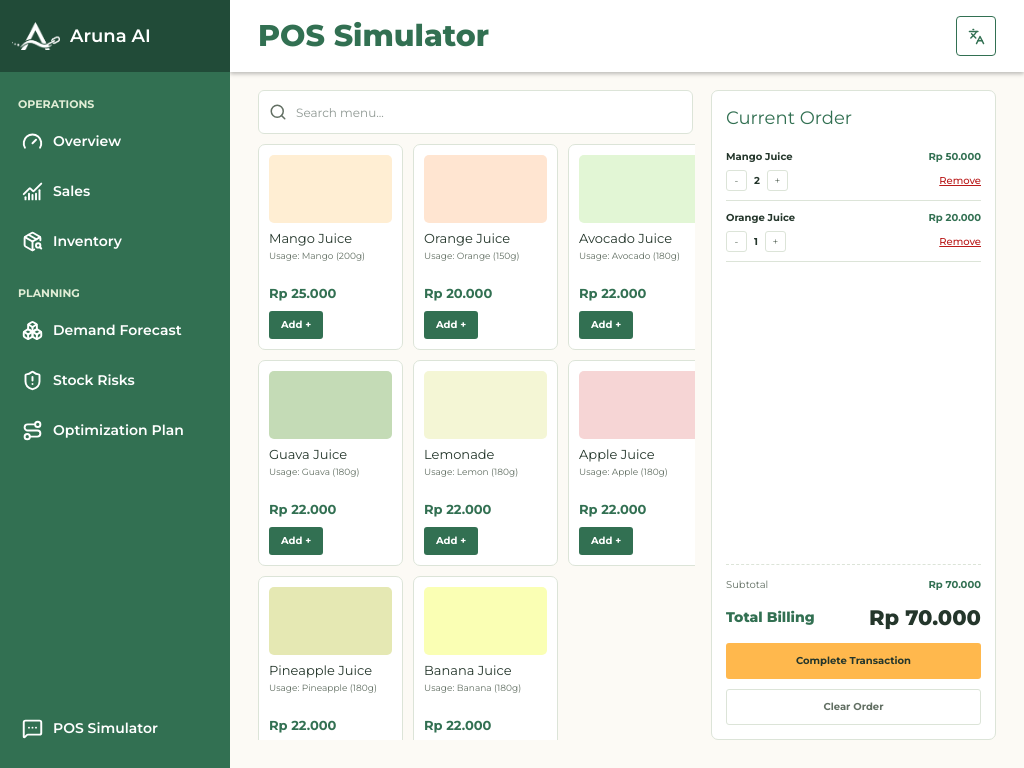
Test: PosSimulatorPage › manages an order and shows insufficient stock
Expected: the heading "Current Order" is shown, x1=726 y1=107 x2=852 y2=129
Expected: the text "Rp 70.000" in the row of "Subtotal" is shown, x1=928 y1=578 x2=981 y2=590
Click the button "Complete Transaction" at [854, 661], box x1=726 y1=643 x2=981 y2=679
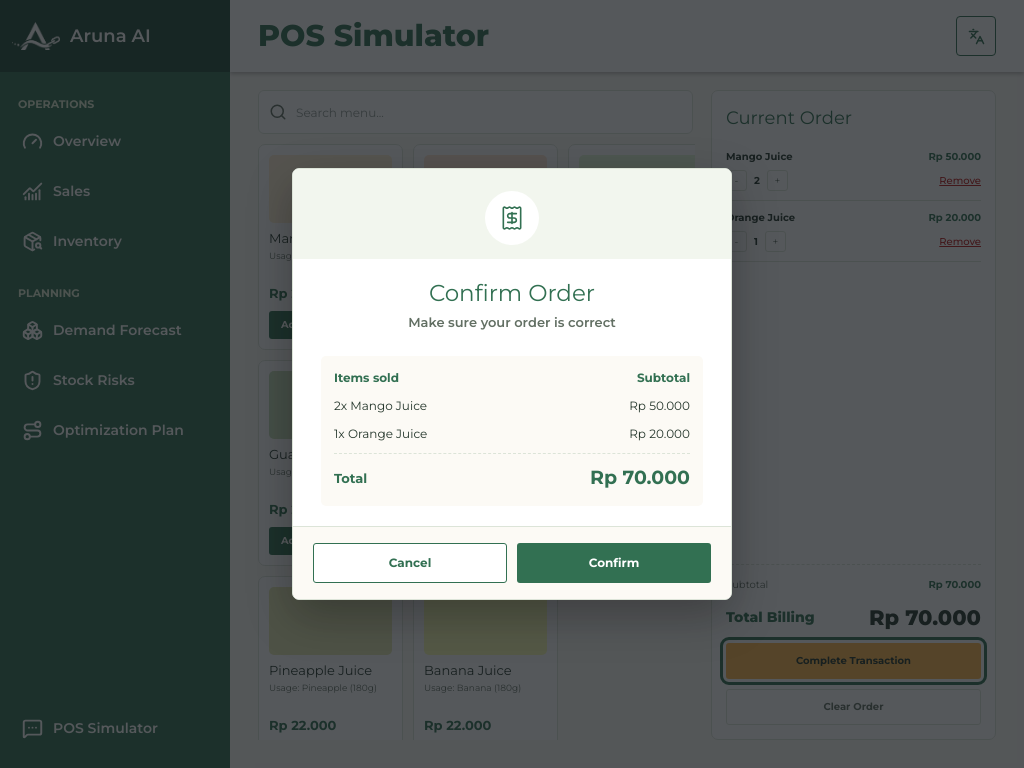
Expected: the heading "Confirm Order" is shown, x1=429 y1=279 x2=595 y2=307
Click the button "Confirm" at [614, 563], box x1=517 y1=543 x2=711 y2=583
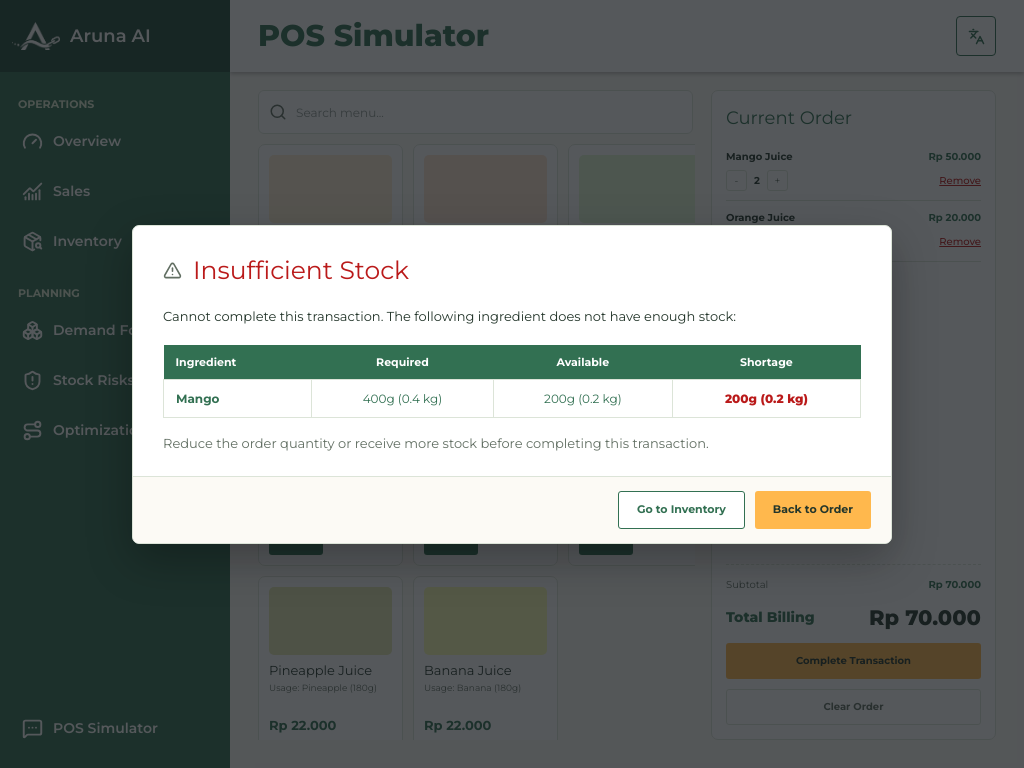
Expected: the heading "Insufficient Stock" is shown, x1=163 y1=254 x2=409 y2=284
Expected: the text "200g (0.2 kg)" is shown 2 times, x1=494 y1=380 x2=672 y2=418; x1=672 y1=380 x2=860 y2=418
Click the button "Back to Order" at [813, 510], box x1=755 y1=490 x2=871 y2=528
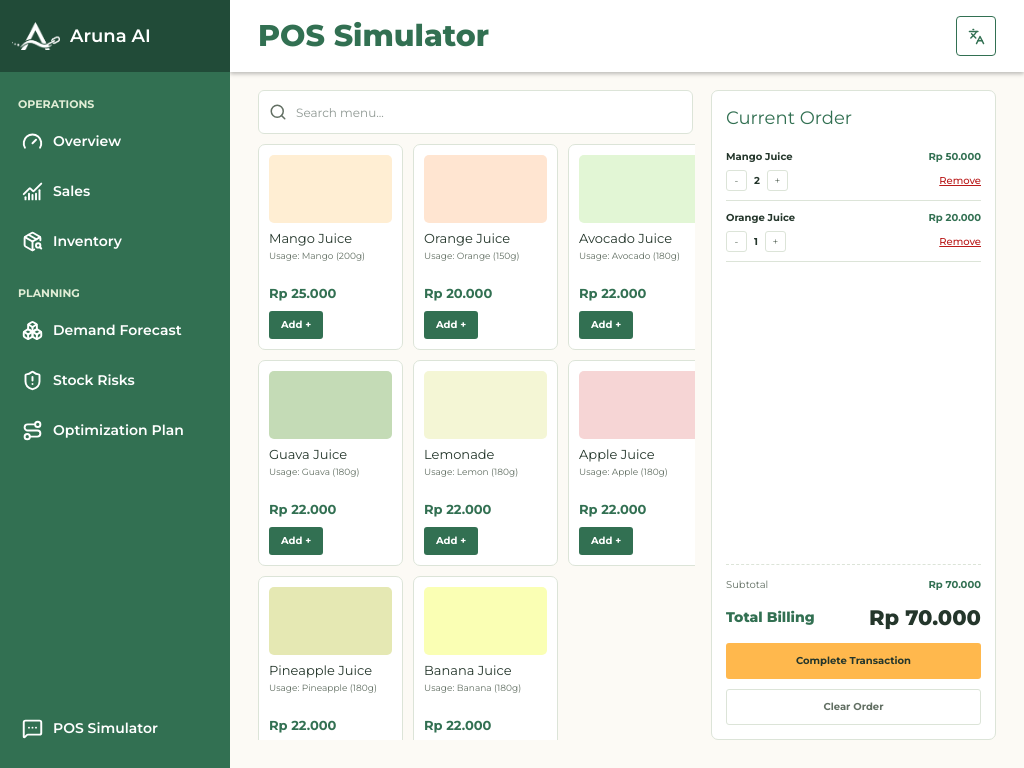
Click the button named "Decrease Mango Juice" at [736, 180], box x1=726 y1=170 x2=747 y2=191
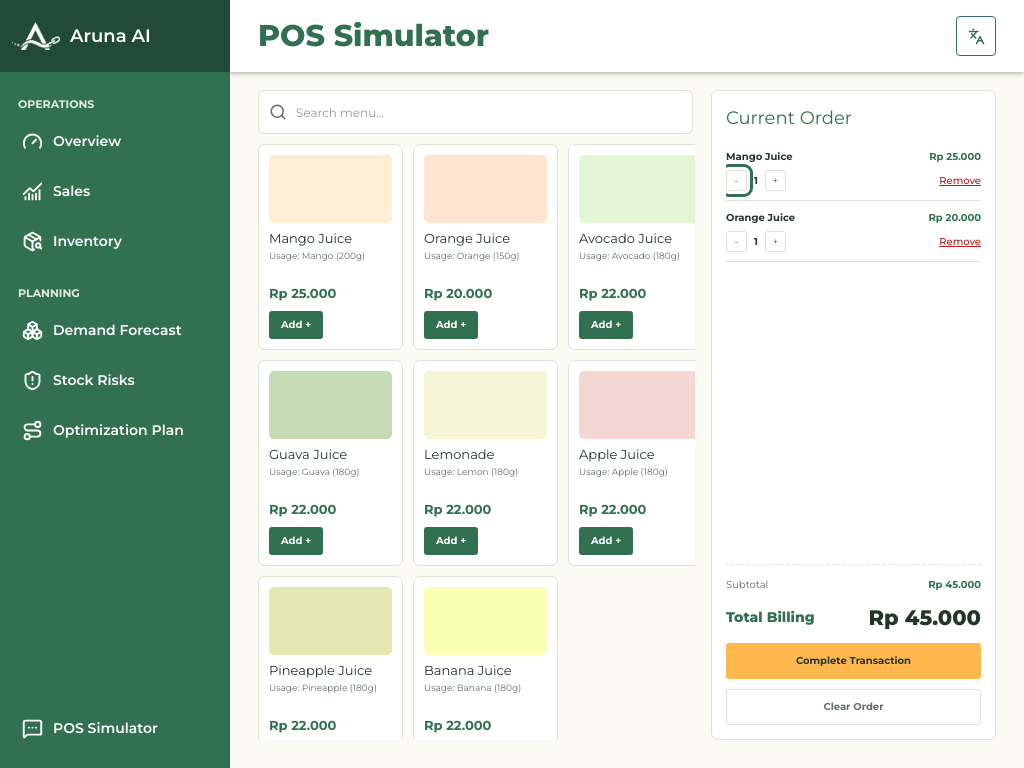
Click the button "Complete Transaction" at [854, 661], box x1=726 y1=643 x2=981 y2=679
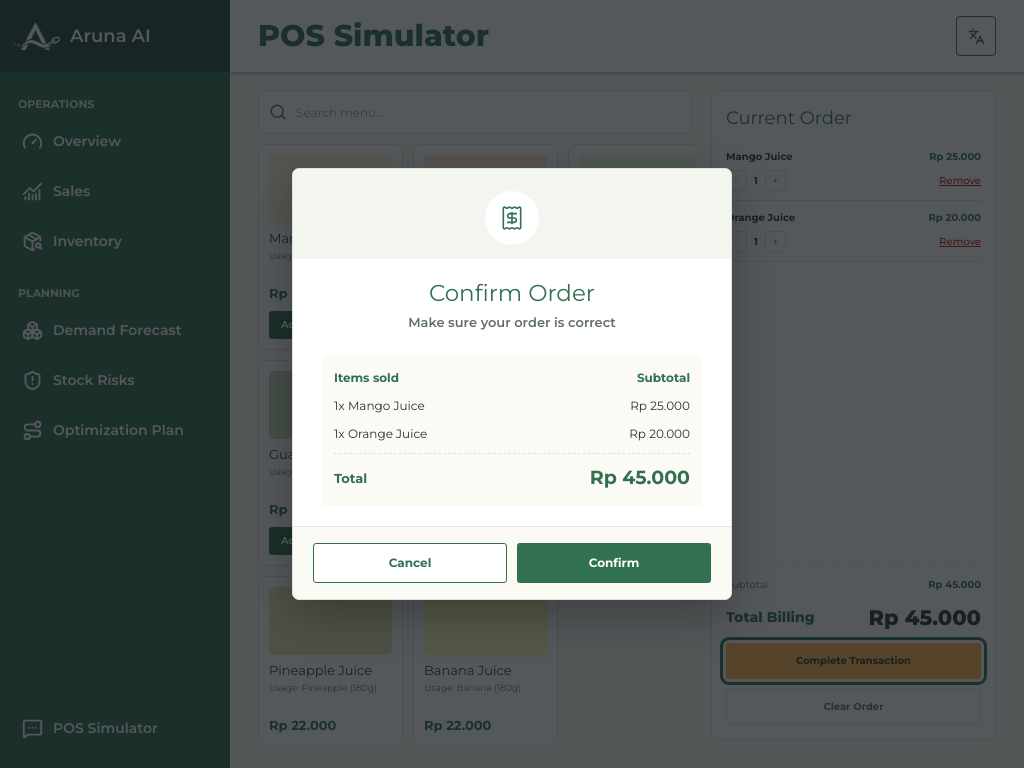
Click the button "Confirm" at [614, 563], box x1=517 y1=543 x2=711 y2=583
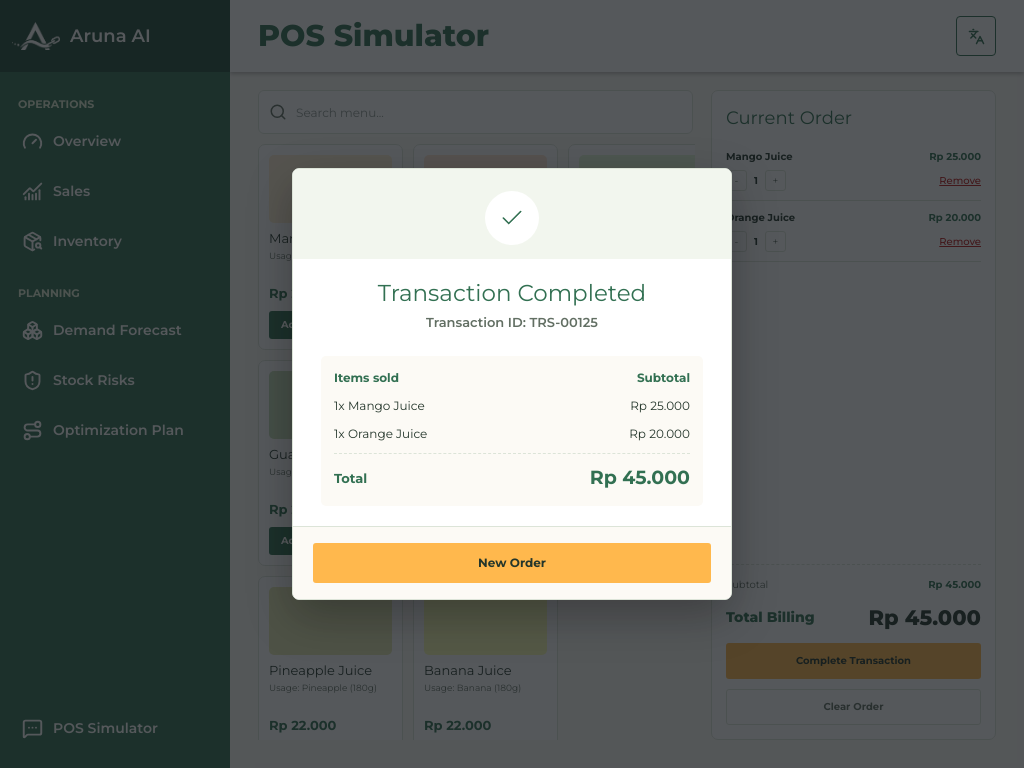
Expected: the heading "Transaction Completed" is shown, x1=378 y1=279 x2=646 y2=307
